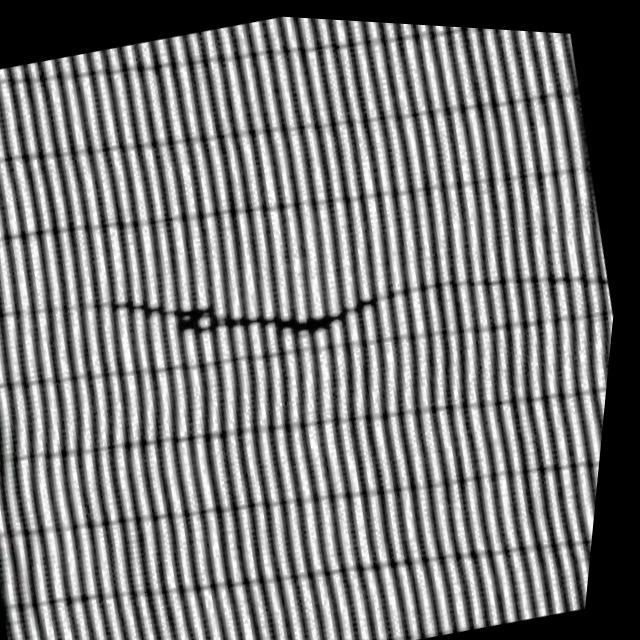Stitch: (62, 191, 438, 428)
